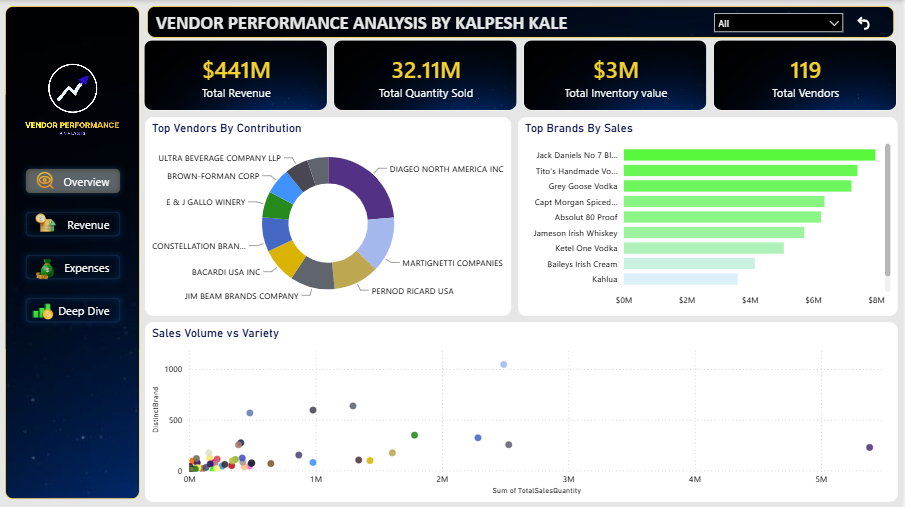

The page's visual inventory and layout, read from the dashboard file:
{"tool":"powerbi","page":{"name":"Overview  ","canvas":[1280,720],"ordinal":1},"visuals":[{"type":"image","box":[9.9,8.5,191.3,698.7],"z":0},{"type":"scatterChart","title":"Sales Volume vs Variety","fields":{"X":["Sum(vendor_sales_summary.TotalSalesQuantity)"],"Y":["BrandPerformance.DistinctBrand"],"Category":["vendor_sales_summary.VendorName"]},"box":[208.8,456.2,1066.9,254.6],"z":1000},{"type":"image","box":[211.2,8.5,1058.7,45.4],"z":2000},{"type":"donutChart","title":"Top Vendors By Contribution","fields":{"Category":["vendor_sales_summary.VendorName"],"Y":["Sum(vendor_sales_summary.TotalSalesDollars)"]},"box":[208.8,165.9,519.2,281.7],"z":3000},{"type":"barChart","title":"Top Brands By Sales","fields":{"Y":["Sum(vendor_sales_summary.TotalSalesDollars)"],"Category":["vendor_sales_summary.Description"]},"box":[737,165.8,538,282],"z":4000},{"type":"textbox","box":[66.6,11.3,897.2,48.2],"z":5000},{"type":"cardVisual","fields":{"Data":["Sum(vendor_sales_summary.TotalSalesDollars)","Sum(vendor_sales_summary.TotalSalesQuantity)","Sum(vendor_sales_summary.UnsoldCapital)","Count(vendor_sales_summary.VendorName)"]},"box":[201.3,51,1078.6,112],"z":6000},{"type":"image","box":[8.5,52.4,192.8,177.2],"z":7000},{"type":"slicer","fields":{"Values":["vendor_sales_summary.VendorName"]},"box":[1004.9,8.5,203.4,51.3],"z":8000},{"type":"actionButton","box":[1213.4,13.7,27.3,37.6],"z":9000},{"type":"pageNavigator","box":[31.2,231,150.2,236.7],"z":10000},{"type":"image","box":[45.4,300.5,45.4,31.2],"z":11000},{"type":"image","box":[41.1,240.9,52.4,29.8],"z":12000},{"type":"image","box":[48.2,365.7,38.3,29.8],"z":13000},{"type":"image","box":[46.8,412.4,32.6,46.8],"z":14000},{"type":"image","box":[55.3,310.4,38.3,5.7],"z":15000}]}

Visuals, with their boxes in screenshot pixels (x1, y1, x2, y2), scaled from the page's 1280x720 canvas onto the 905x507 screenshot:
image: crop(7, 6, 142, 498)
"Sales Volume vs Variety" scatterChart: crop(148, 321, 902, 501)
image: crop(149, 6, 898, 38)
"Top Vendors By Contribution" donutChart: crop(148, 117, 515, 315)
"Top Brands By Sales" barChart: crop(521, 117, 901, 315)
textbox: crop(47, 8, 681, 42)
cardVisual - Sum(vendor_sales_summary.TotalSalesDollars) x Sum(vendor_sales_summary.TotalSalesQuantity): crop(142, 36, 904, 115)
image: crop(6, 37, 142, 162)
slicer - vendor_sales_summary.VendorName: crop(710, 6, 854, 42)
actionButton: crop(858, 10, 877, 36)
pageNavigator: crop(22, 163, 128, 329)
image: crop(32, 212, 64, 234)
image: crop(29, 170, 66, 191)
image: crop(34, 258, 61, 278)
image: crop(33, 290, 56, 323)
image: crop(39, 219, 66, 223)
